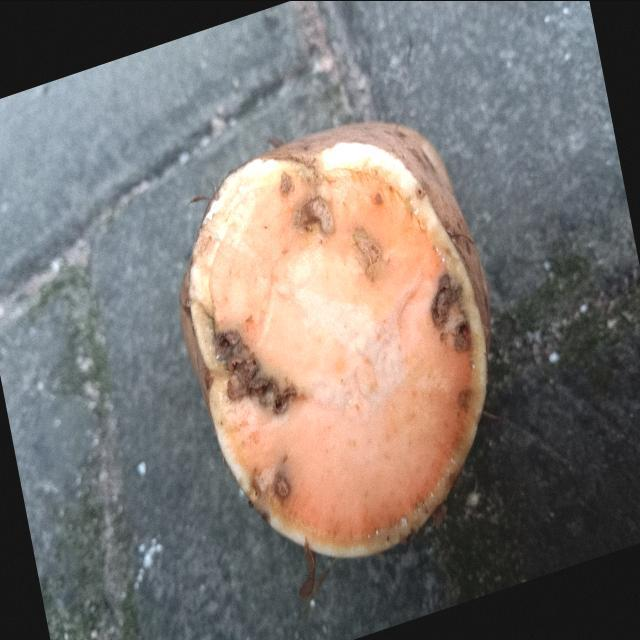Sick Sweet Potato_Tuber Rot: (190, 122, 490, 557)
